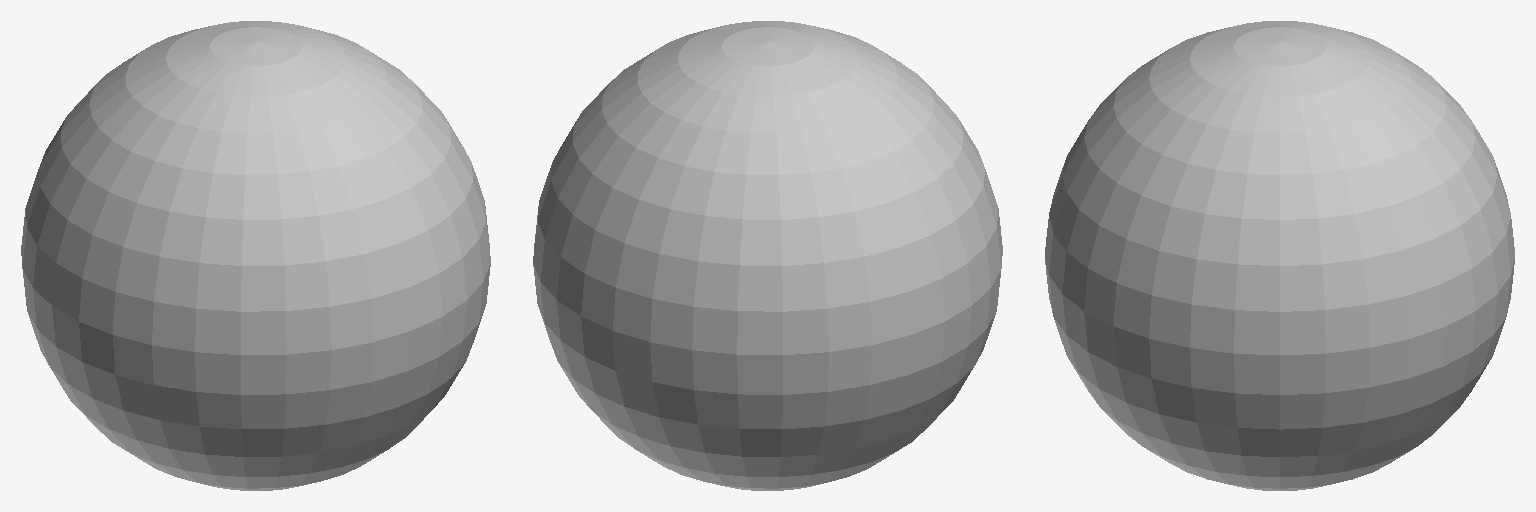
File: skymode.obj
The picture shows the model from 3 angles: view 1: azimuth 30°, elevation 25°; view 2: azimuth 150°, elevation 25°; view 3: azimuth 270°, elevation 25°; orthographic projection.
Visible parts, largest first — view 1: skymode; view 2: skymode; view 3: skymode.
Boxes of the visible parts, x1,y1,x2,y2 form: skymode: [21, 21, 490, 490]; skymode: [533, 21, 1002, 490]; skymode: [1045, 21, 1514, 490].
Size of the model in its own units: 2 by 2 by 2.